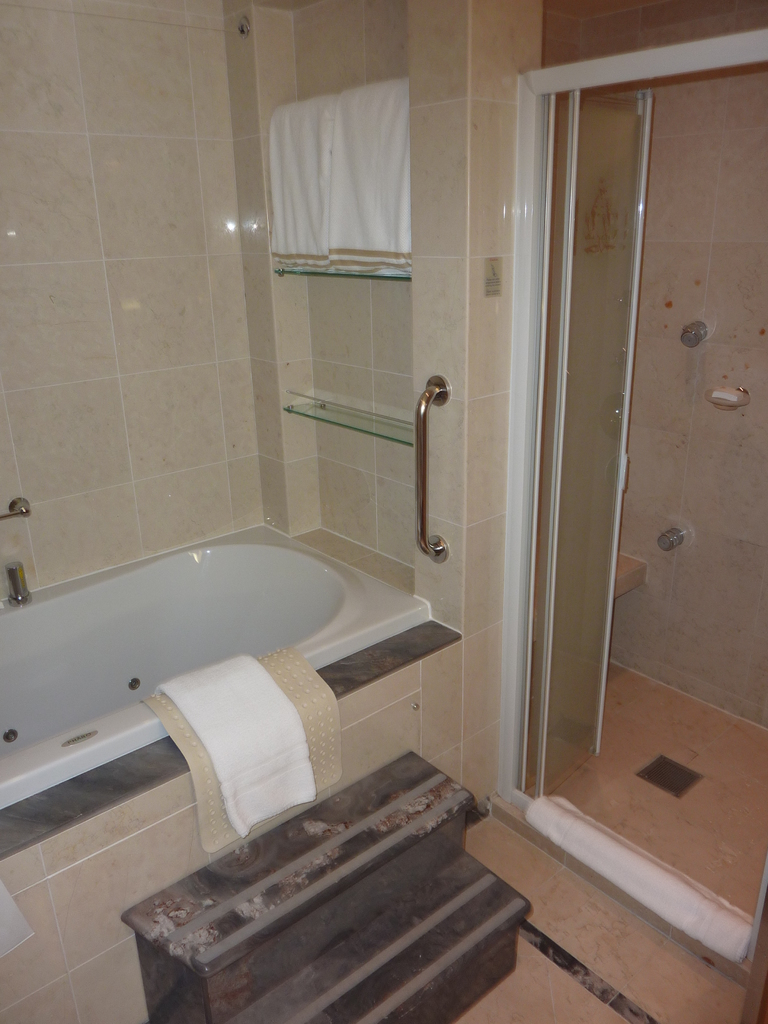handle: (415, 380, 455, 570)
